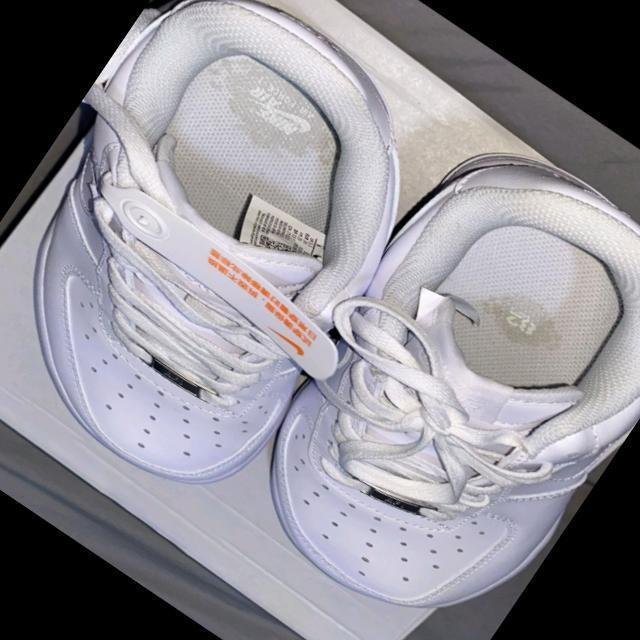nike fake air force: (0, 0, 482, 527), (215, 105, 640, 640)
